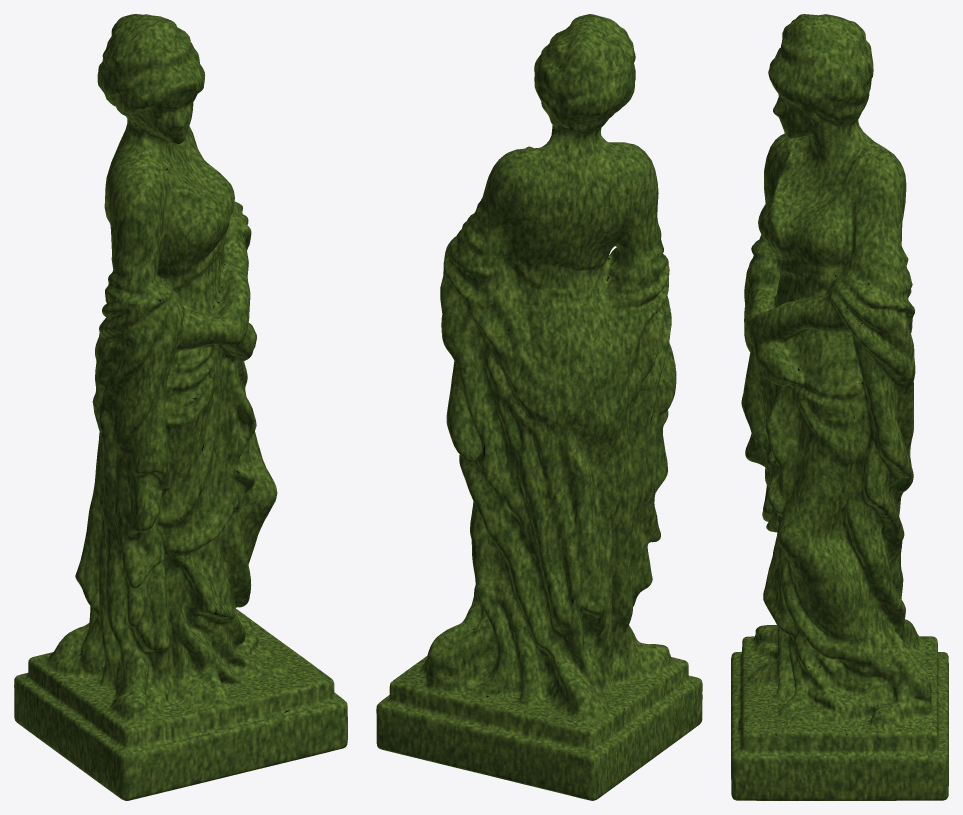
File: woman-violet-hedge.glb
3 views of the same model, side by side, from view 1: azimuth 30°, elevation 25°; view 2: azimuth 150°, elevation 25°; view 3: azimuth 270°, elevation 25° (orthographic). The views are drawn at different scales.
Visible parts, largest first — view 1: woman-violet - original generated mesh; view 2: woman-violet - original generated mesh; view 3: woman-violet - original generated mesh.
Part boxes in pixels (x1=…): woman-violet - original generated mesh: x1=14, y1=14, x2=347, y2=800; woman-violet - original generated mesh: x1=376, y1=14, x2=702, y2=800; woman-violet - original generated mesh: x1=731, y1=14, x2=948, y2=800.
Bounding box in the file's own units: 0.9675 × 3 × 0.8312.
Materials: 1 (1 with a texture image).
